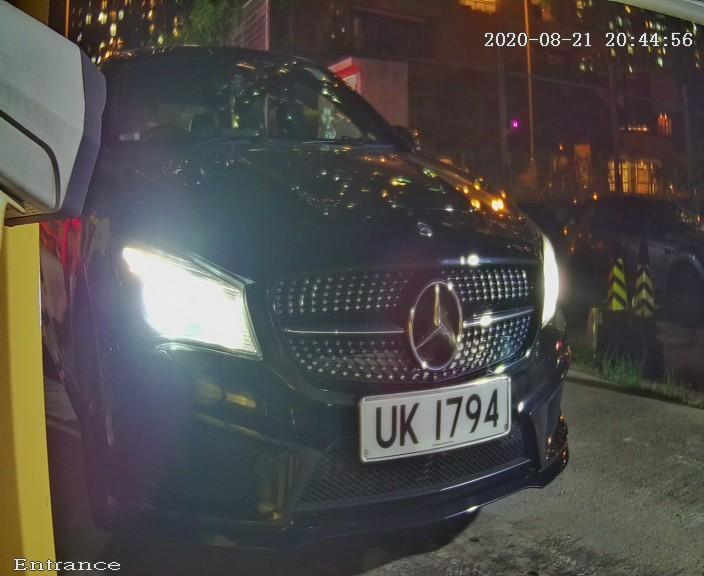Car: (16, 1, 623, 564)
License Plate: (332, 358, 537, 472)
